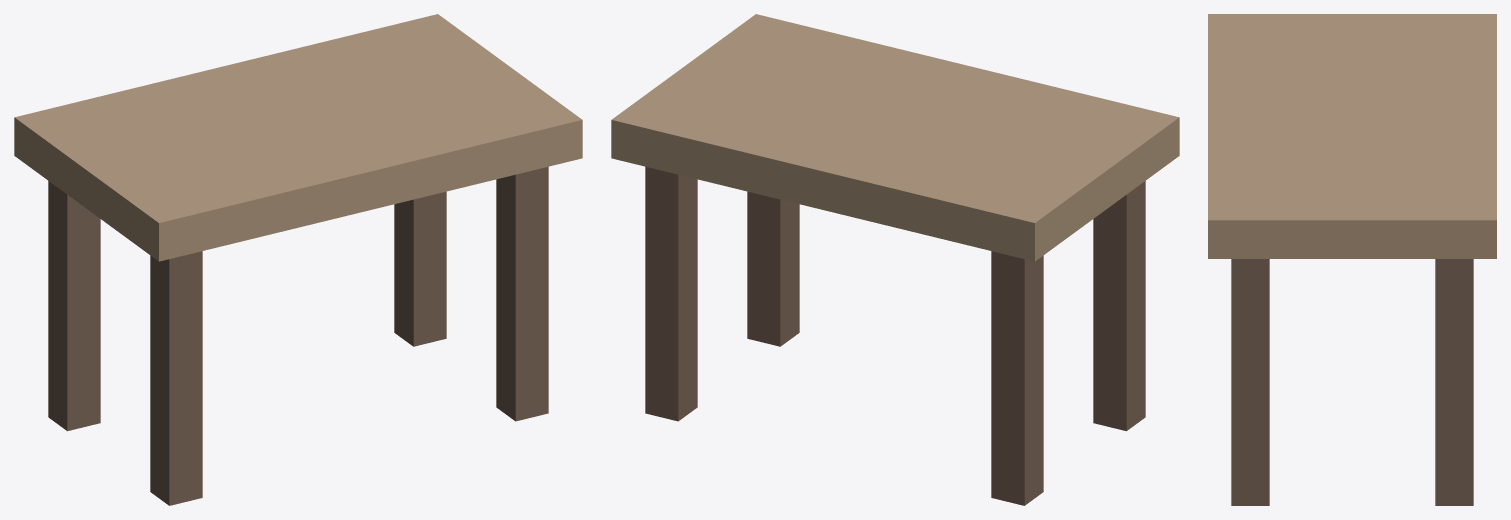
Rendered from table.glb.
3 views of the same model, side by side, from view 1: azimuth 30°, elevation 25°; view 2: azimuth 150°, elevation 25°; view 3: azimuth 270°, elevation 25° (orthographic).
Visible parts, largest first — view 1: Top, Leg3, Leg4, Leg1, Leg2; view 2: Top, Leg1, Leg2, Leg3, Leg4; view 3: Top, Leg2, Leg4.
Boxes of the visible parts, bbox=[...] form: Top: bbox=[14, 14, 582, 261]; Leg3: bbox=[150, 251, 202, 505]; Leg4: bbox=[496, 166, 548, 421]; Leg1: bbox=[48, 181, 100, 431]; Leg2: bbox=[394, 191, 446, 346]; Top: bbox=[611, 14, 1179, 261]; Leg1: bbox=[991, 251, 1043, 505]; Leg2: bbox=[645, 166, 697, 421]; Leg3: bbox=[1093, 181, 1145, 431]; Leg4: bbox=[747, 191, 799, 346]; Top: bbox=[1208, 14, 1496, 258]; Leg2: bbox=[1435, 259, 1473, 505]; Leg4: bbox=[1231, 259, 1269, 505].
Size of the model in its own units: 1.15 by 0.77 by 0.68.
